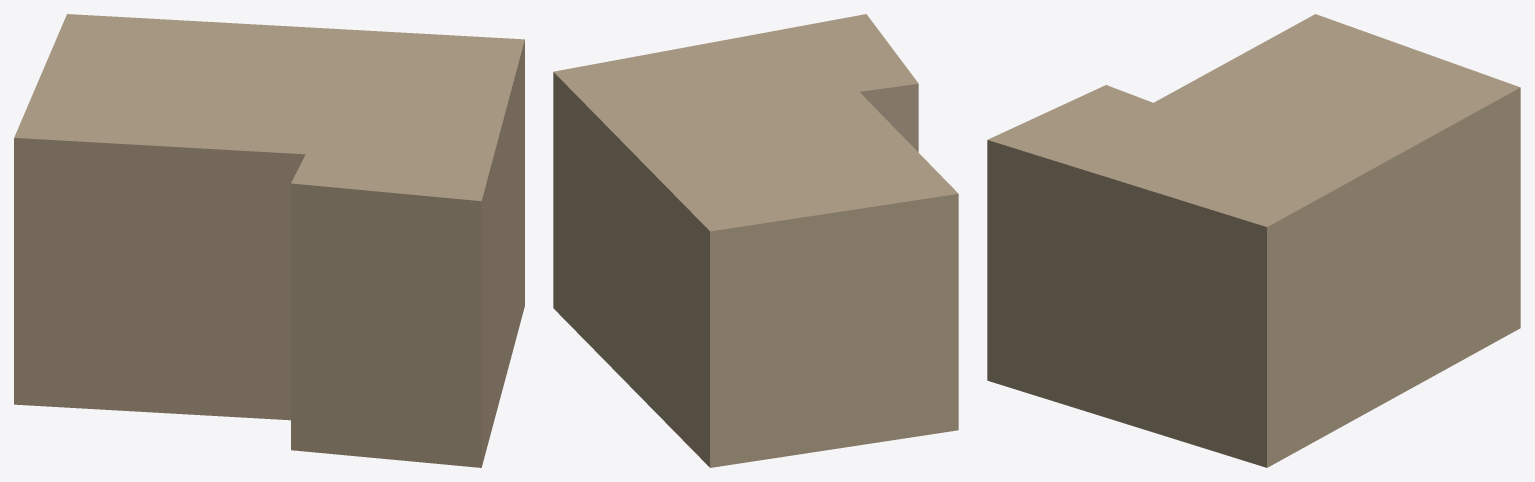
The model's file is bld_99007817.dae.
3 views of the same model, side by side, from view 1: azimuth 30°, elevation 25°; view 2: azimuth 150°, elevation 25°; view 3: azimuth 270°, elevation 25° (orthographic). The views are drawn at different scales.
Visible parts, largest first — view 1: Quality Fish & Chips; view 2: Quality Fish & Chips; view 3: Quality Fish & Chips.
Part boxes in pixels (x1,y1,x2,y2): Quality Fish & Chips: [14, 14, 524, 467]; Quality Fish & Chips: [553, 14, 958, 467]; Quality Fish & Chips: [987, 14, 1520, 467].
Size of the model in its own units: 15.19 by 16.06 by 8.
